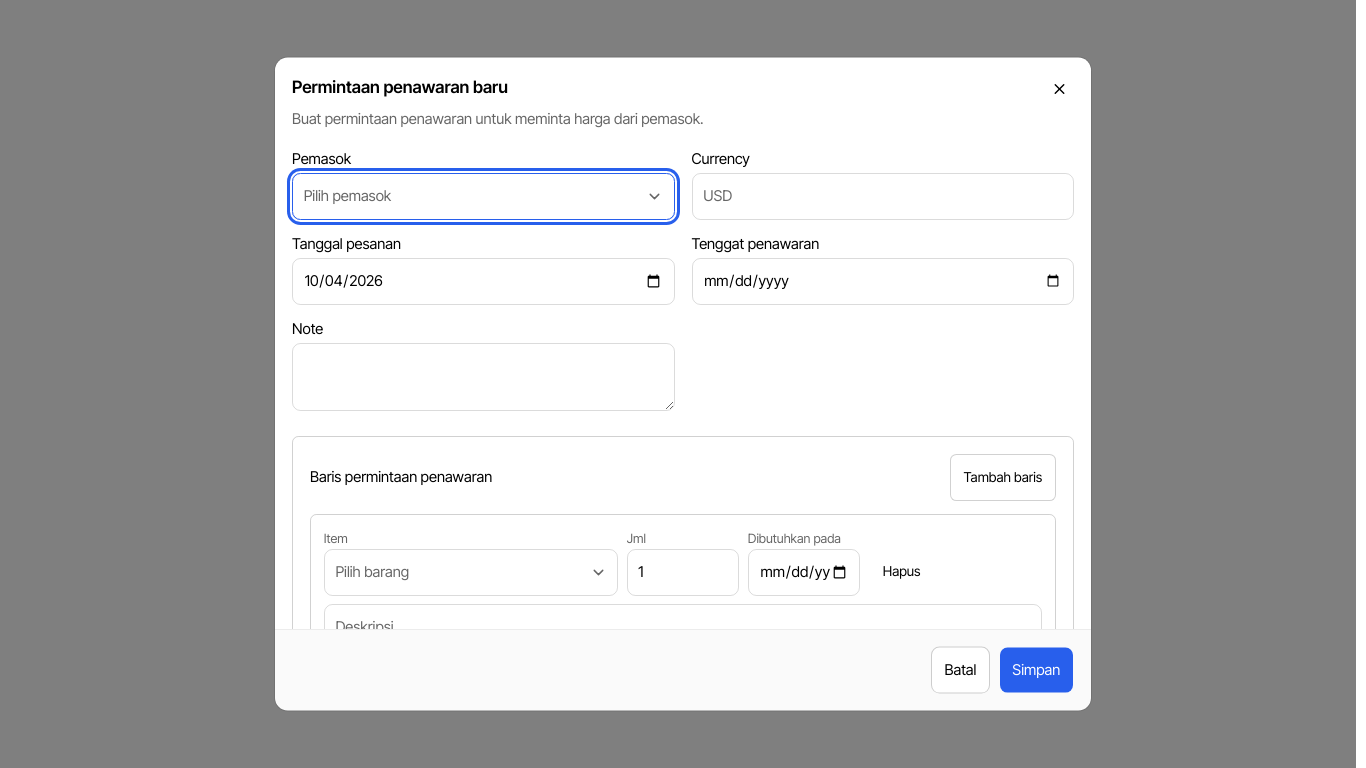
it: SupplierQuoteRequestFormDialog remainder › shows the empty-lines message after removing all lines
Click the button "Hapus" at {"x": 902, "y": 572}, box top-left (869, 548), bottom-right (934, 595)
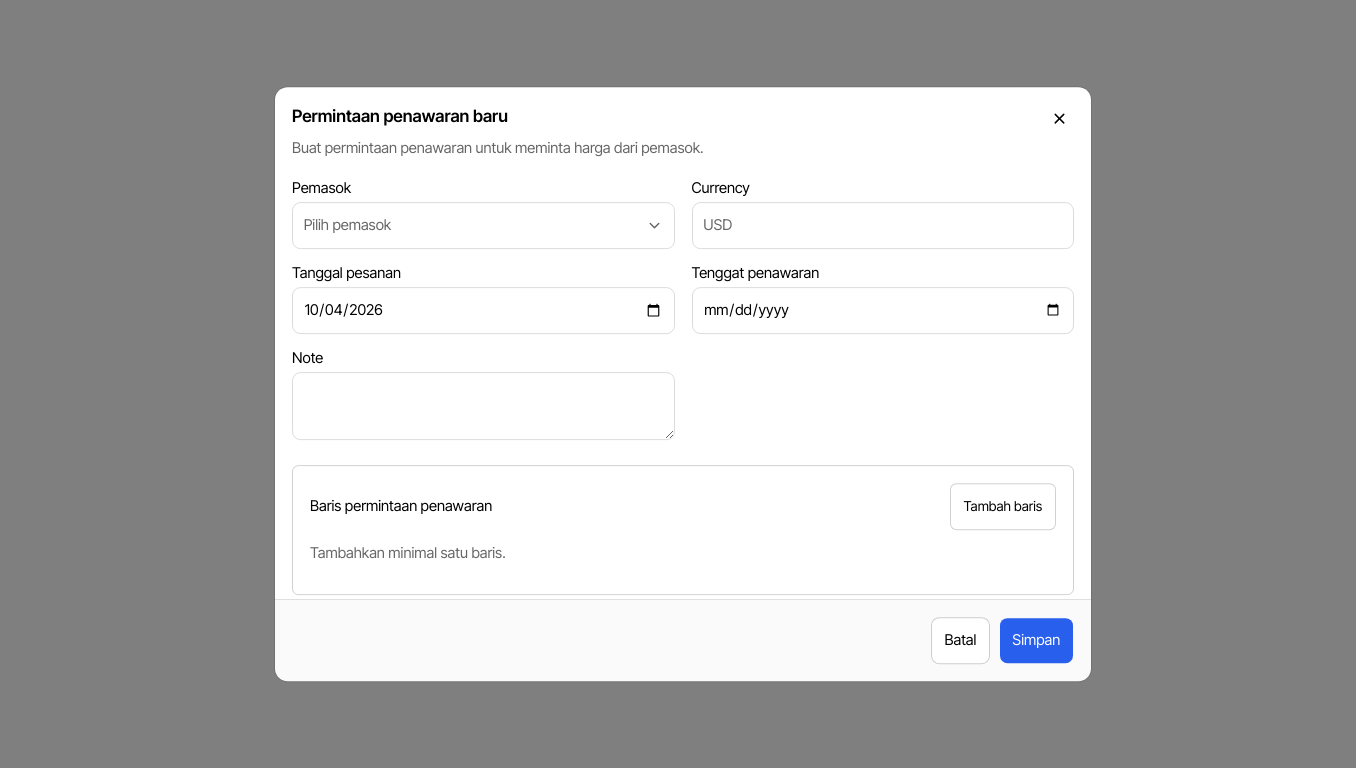
Expected: the text "Tambahkan minimal satu baris." is shown, top-left (310, 544), bottom-right (506, 562)
